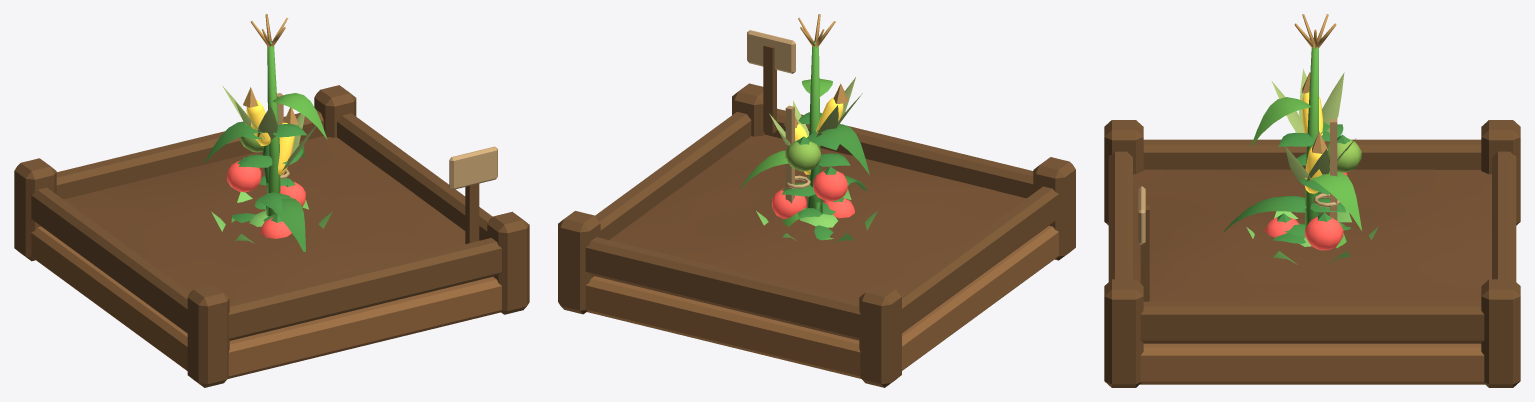
The model's file is horta.glb.
3 renders of one model, left to right at view 1: azimuth 30°, elevation 25°; view 2: azimuth 150°, elevation 25°; view 3: azimuth 270°, elevation 25°, orthographic. The views are drawn at different scales.
Visible parts, largest first — view 1: canteiro, milho-maduro, tomate-maduro, alface-maduro; view 2: canteiro, tomate-maduro, milho-maduro, alface-maduro; view 3: canteiro, milho-maduro, tomate-maduro, alface-maduro.
Part boxes in pixels (bbox=[...]): canteiro: bbox=[14, 85, 529, 387]; milho-maduro: bbox=[203, 14, 327, 251]; tomate-maduro: bbox=[227, 93, 306, 238]; alface-maduro: bbox=[211, 192, 332, 243]; canteiro: bbox=[558, 30, 1075, 387]; tomate-maduro: bbox=[772, 105, 854, 240]; milho-maduro: bbox=[739, 14, 869, 239]; alface-maduro: bbox=[756, 189, 877, 243]; canteiro: bbox=[1104, 120, 1520, 387]; milho-maduro: bbox=[1223, 14, 1361, 231]; tomate-maduro: bbox=[1264, 119, 1361, 250]; alface-maduro: bbox=[1246, 208, 1378, 264].
Size of the model in its own units: 1.38 by 1.1 by 1.38.
